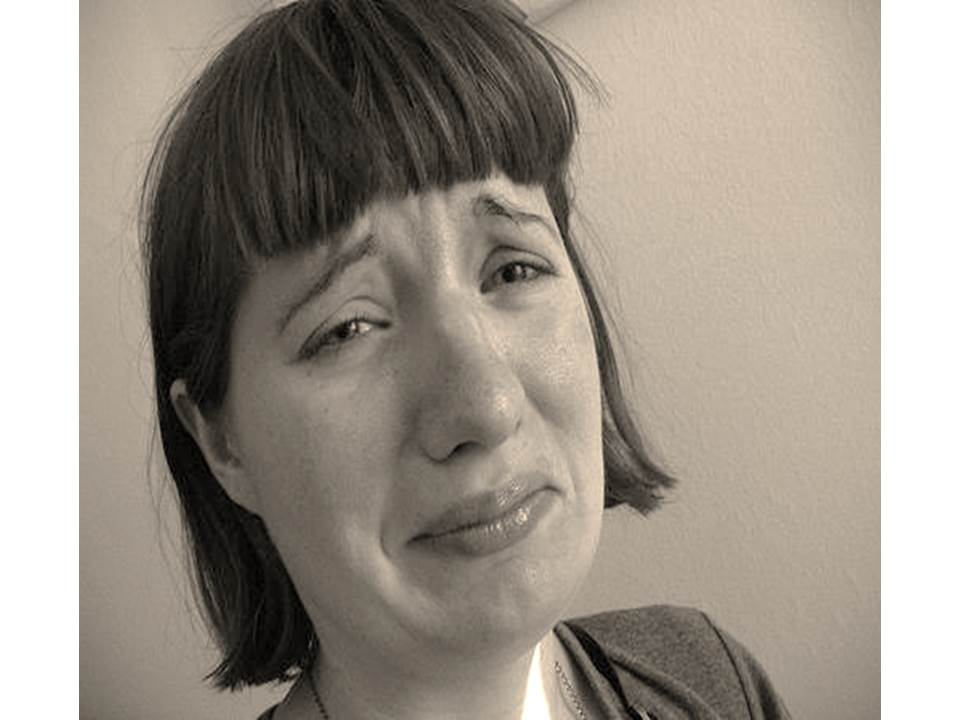sad: (266, 179, 626, 635)
